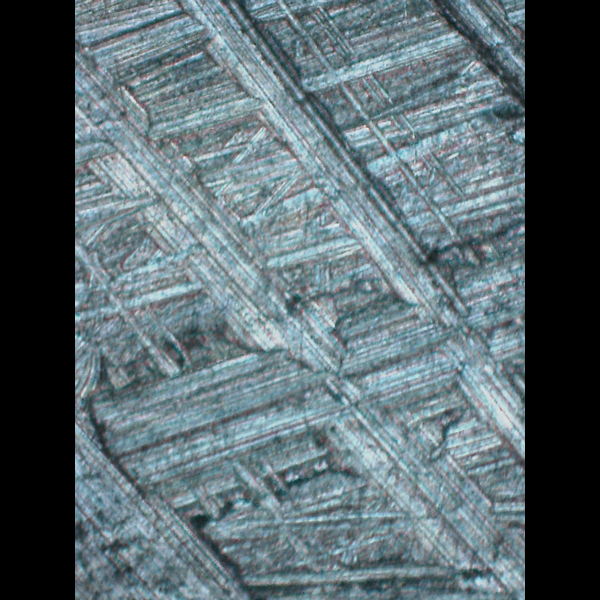d: (74, 15, 517, 591), (75, 399, 264, 599)
